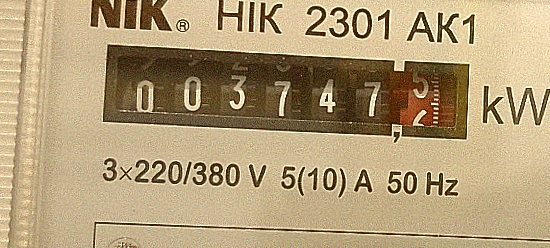0: (180, 73, 202, 112), (133, 77, 156, 113)
3: (227, 73, 247, 110)
4: (316, 75, 338, 116)
5: (410, 70, 430, 99)
6: (409, 106, 428, 127)
7: (359, 77, 383, 118), (270, 77, 291, 118)
screen: (92, 33, 485, 155)
